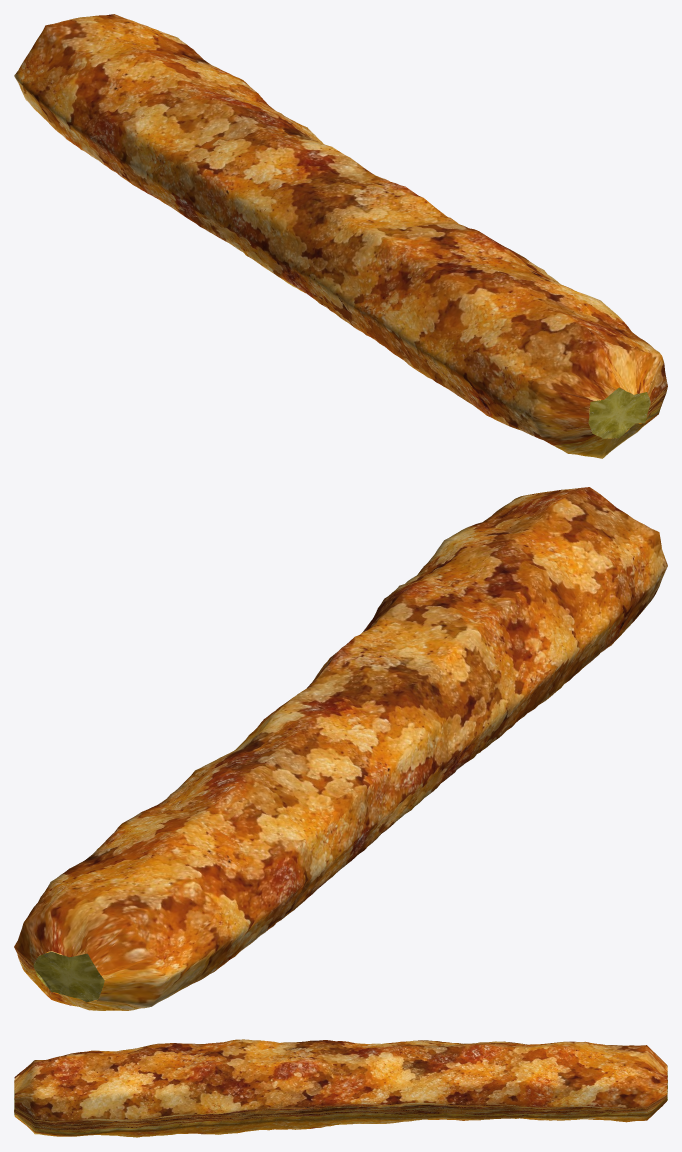
Rendered from sides-pickle-spear-2.glb.
The picture shows the model from 3 angles, top to bottom: view 1: azimuth 30°, elevation 25°; view 2: azimuth 150°, elevation 25°; view 3: azimuth 270°, elevation 25°; orthographic projection. The views are drawn at different scales.
Visible parts, largest first — view 1: Breaded fried pickle spear; view 2: Breaded fried pickle spear; view 3: Breaded fried pickle spear.
Boxes of the visible parts, box(x1,y1,x2,y2) form: Breaded fried pickle spear: box(14, 14, 667, 458); Breaded fried pickle spear: box(14, 487, 667, 1010); Breaded fried pickle spear: box(14, 1039, 667, 1137).
Size of the model in its own units: 0.3539 by 0.2237 by 1.65.
2 materials, 2 textured.
